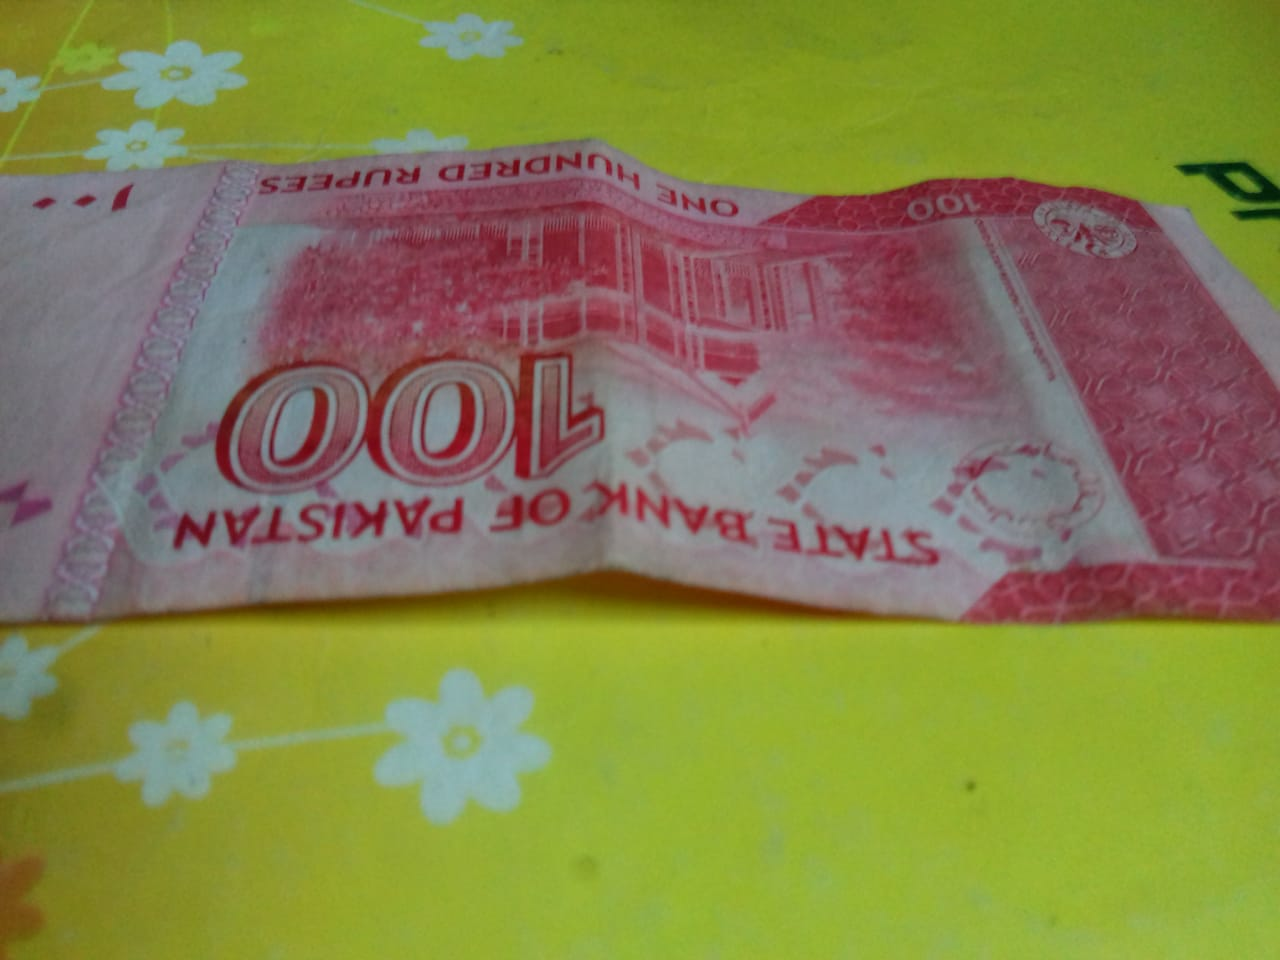100 rupee: (23, 153, 1279, 680)
